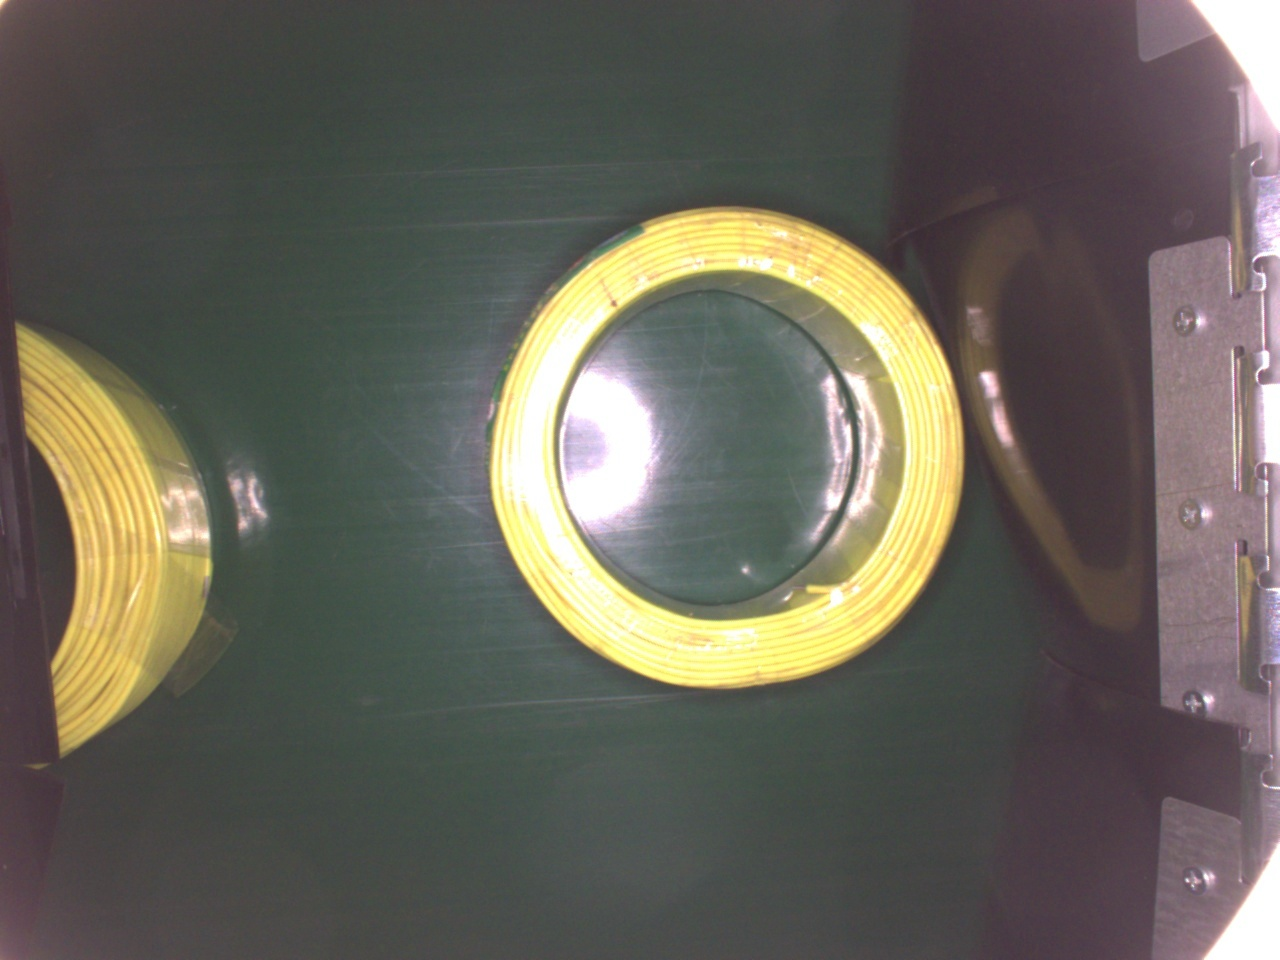yellow: (481, 205, 972, 696), (11, 316, 214, 759)
